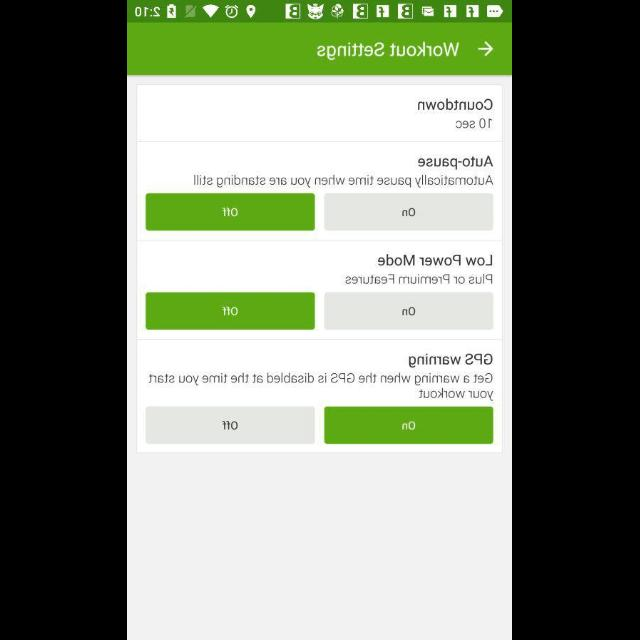icon: (478, 42, 496, 58)
text: (149, 373, 493, 401), (194, 176, 493, 188), (318, 42, 460, 62), (346, 274, 492, 284), (379, 254, 493, 266), (409, 354, 493, 368), (418, 156, 494, 170), (418, 99, 494, 111), (456, 118, 492, 128)
textbutton: (147, 406, 316, 444), (147, 292, 316, 330), (324, 292, 493, 330), (147, 193, 316, 231), (324, 193, 493, 230), (324, 408, 493, 444)
toolbar: (128, 24, 512, 74)
uppertaskbar: (128, 1, 512, 23)
